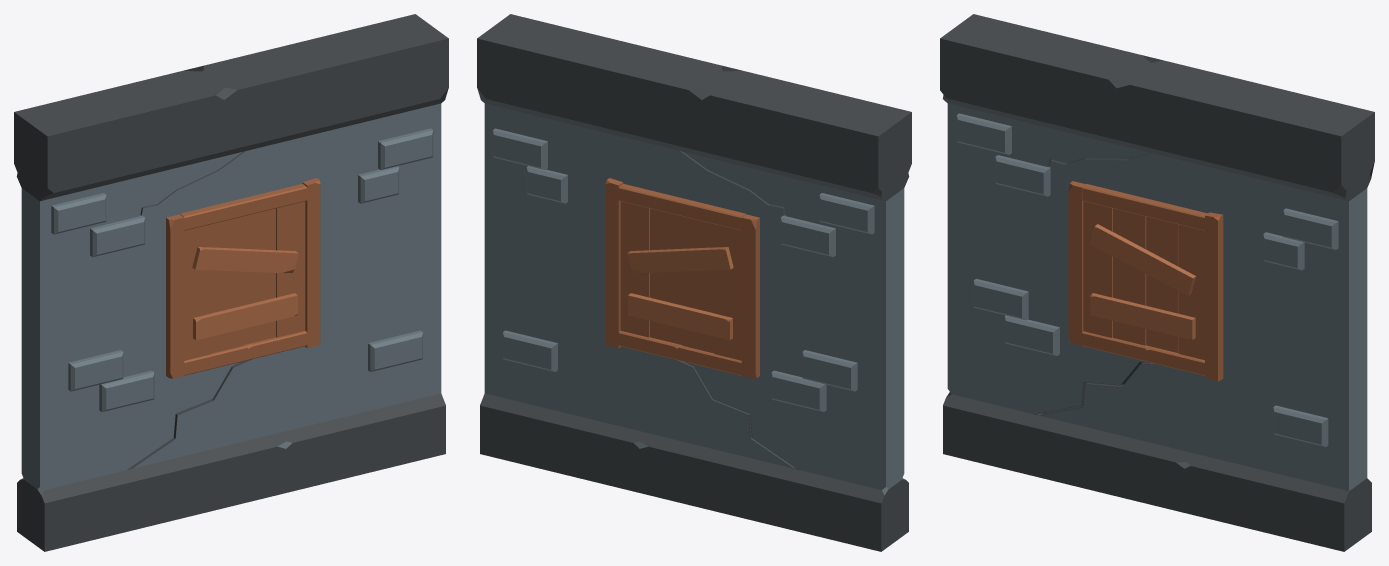
The model's file is wall_1_4.glb.
The picture shows the model from 3 angles, left to right: view 1: azimuth 30°, elevation 25°; view 2: azimuth 150°, elevation 25°; view 3: azimuth 330°, elevation 25°; orthographic projection.
Parts seen in each view (by area): view 1: wall_1_4; view 2: wall_1_4; view 3: wall_1_4.
Part boxes in pixels (left/top/right/bottom): wall_1_4: left=14, top=14, right=448, bottom=551; wall_1_4: left=477, top=14, right=911, bottom=551; wall_1_4: left=940, top=14, right=1374, bottom=551.
Size of the model in its own units: 1.54 by 1.53 by 0.222.
Materials: 1 (1 with a texture image).
